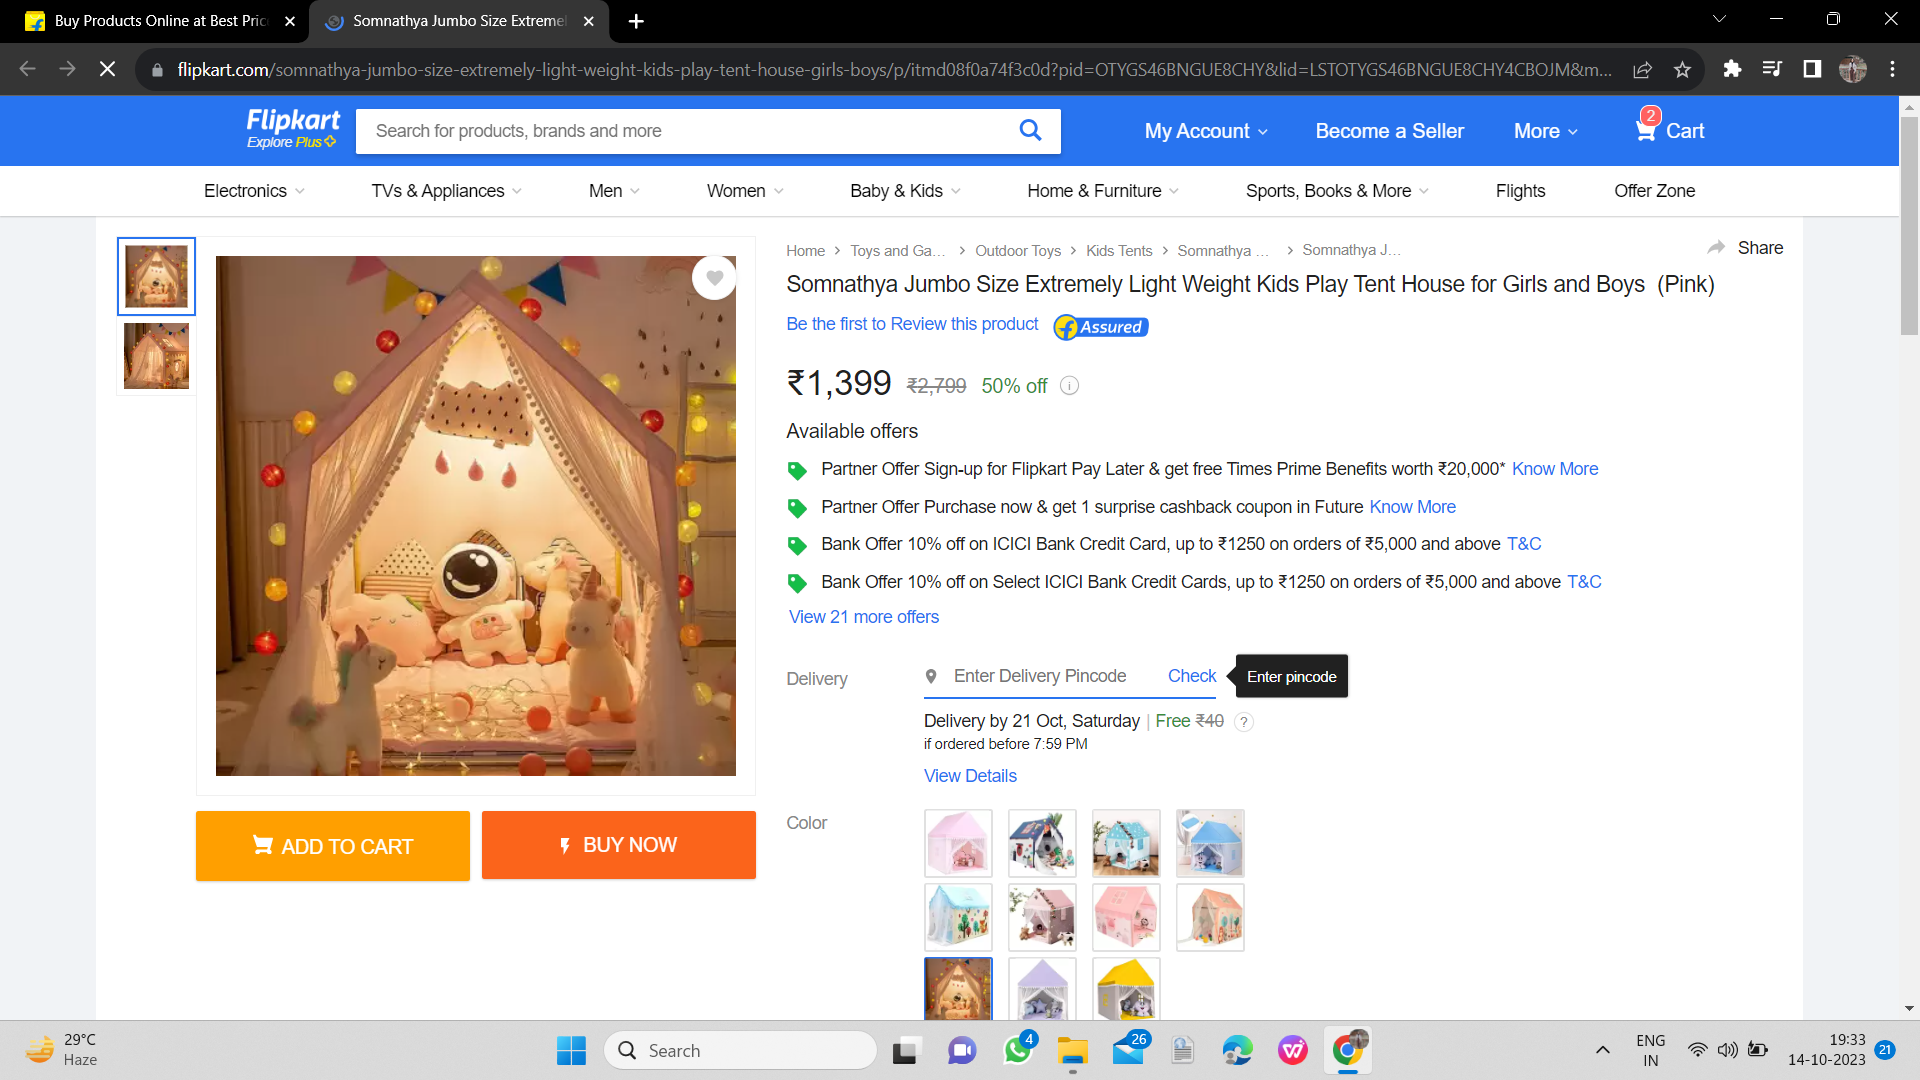Image: (211, 258, 741, 782), (899, 806, 1271, 1019)
Paragraph: (775, 459, 1654, 628), (169, 800, 766, 903), (1120, 90, 1726, 152), (775, 269, 1721, 303), (886, 651, 1369, 696), (765, 355, 1052, 404), (775, 310, 1162, 344), (913, 707, 1147, 737), (778, 418, 935, 444), (779, 666, 858, 700), (783, 807, 831, 837)
